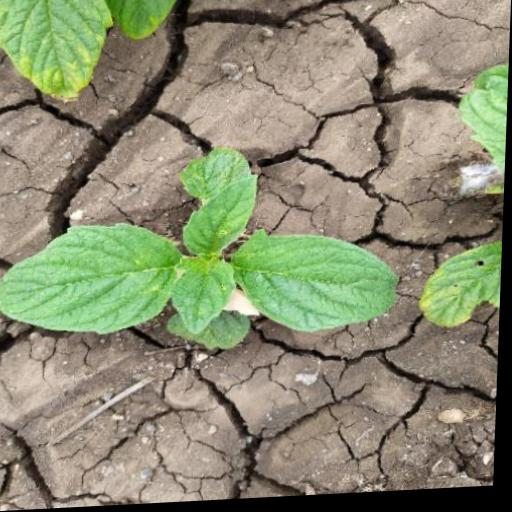crop: (0, 128, 403, 370)
